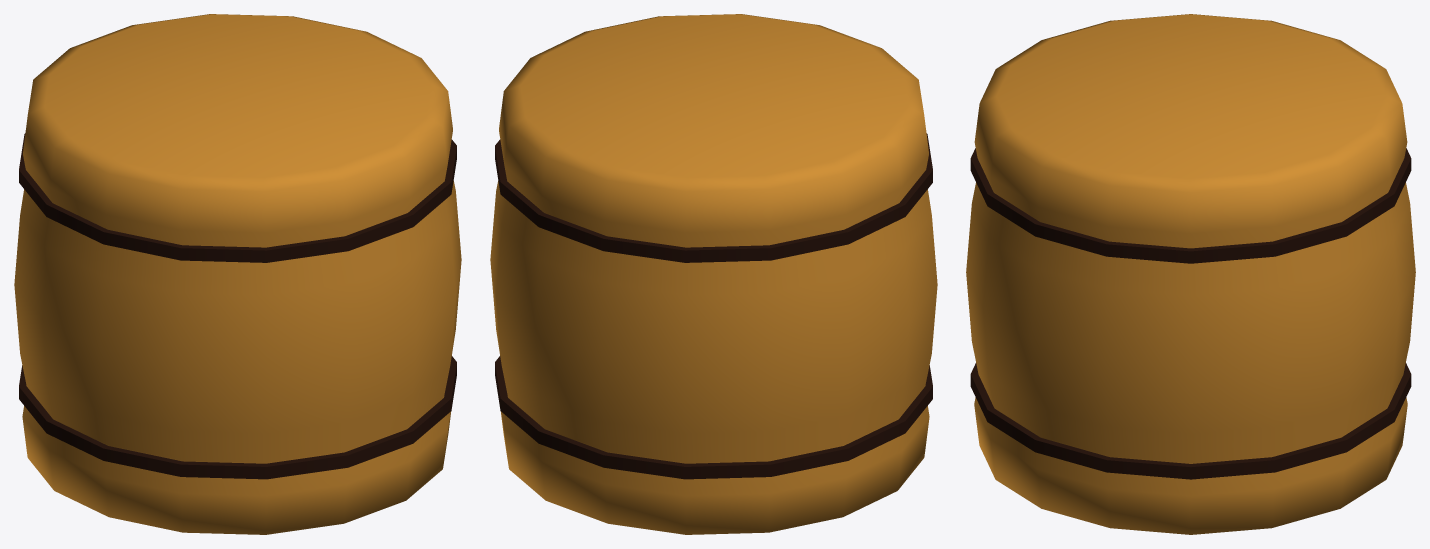
The model's file is haystack_l.fbx.
The picture shows the model from 3 angles, left to right: view 1: azimuth 30°, elevation 25°; view 2: azimuth 150°, elevation 25°; view 3: azimuth 270°, elevation 25°; orthographic projection.
Parts seen in each view (by area): view 1: Vert.010; view 2: Vert.010; view 3: Vert.010.
Part boxes in pixels (x1,y1,x2,y2): Vert.010: (14,14,461,534); Vert.010: (490,14,937,534); Vert.010: (966,14,1415,534).
Size of the model in its own units: 121 by 121 by 106.
